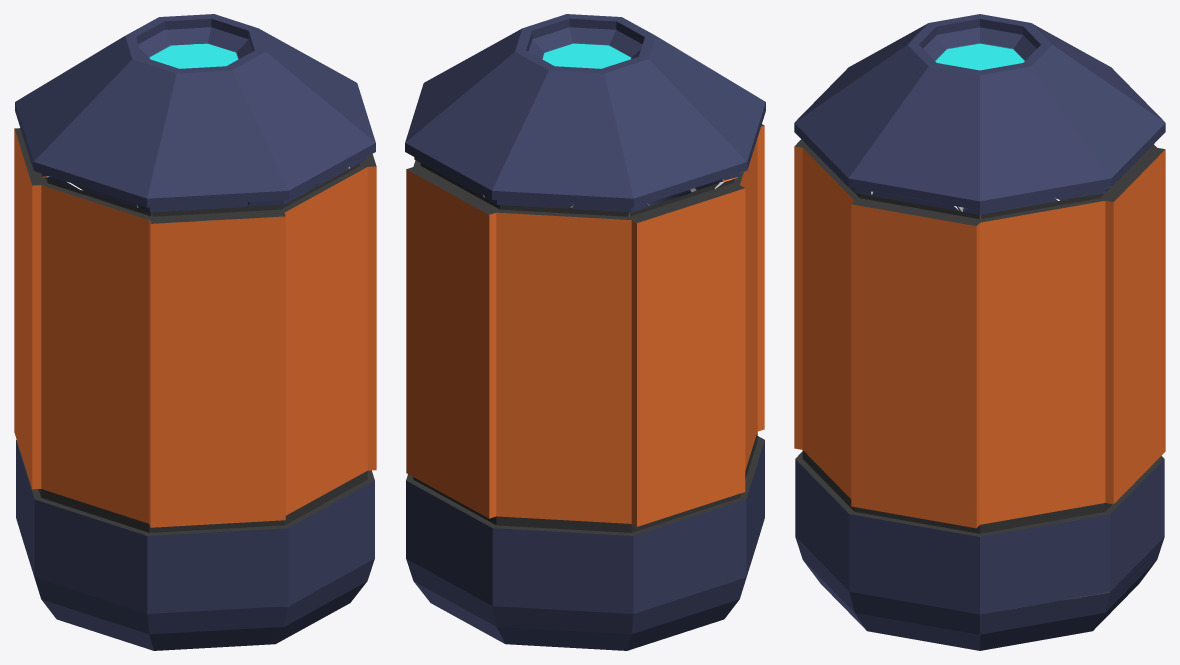
Rendered from Barel Lobby.fbx.
3 renders of one model, left to right at view 1: azimuth 30°, elevation 25°; view 2: azimuth 150°, elevation 25°; view 3: azimuth 270°, elevation 25°, orthographic.
Visible parts, largest first — view 1: Barrel, Barrel_cell.052; view 2: Barrel; view 3: Barrel.
Part boxes in pixels (<box>): Barrel: <box>14,14,376,650</box>; Barrel_cell.052: <box>138,202,248,212</box>; Barrel: <box>405,14,765,650</box>; Barrel: <box>794,14,1165,650</box>.
Bounding box in the file's own units: 52.76 × 84.41 × 52.76.
